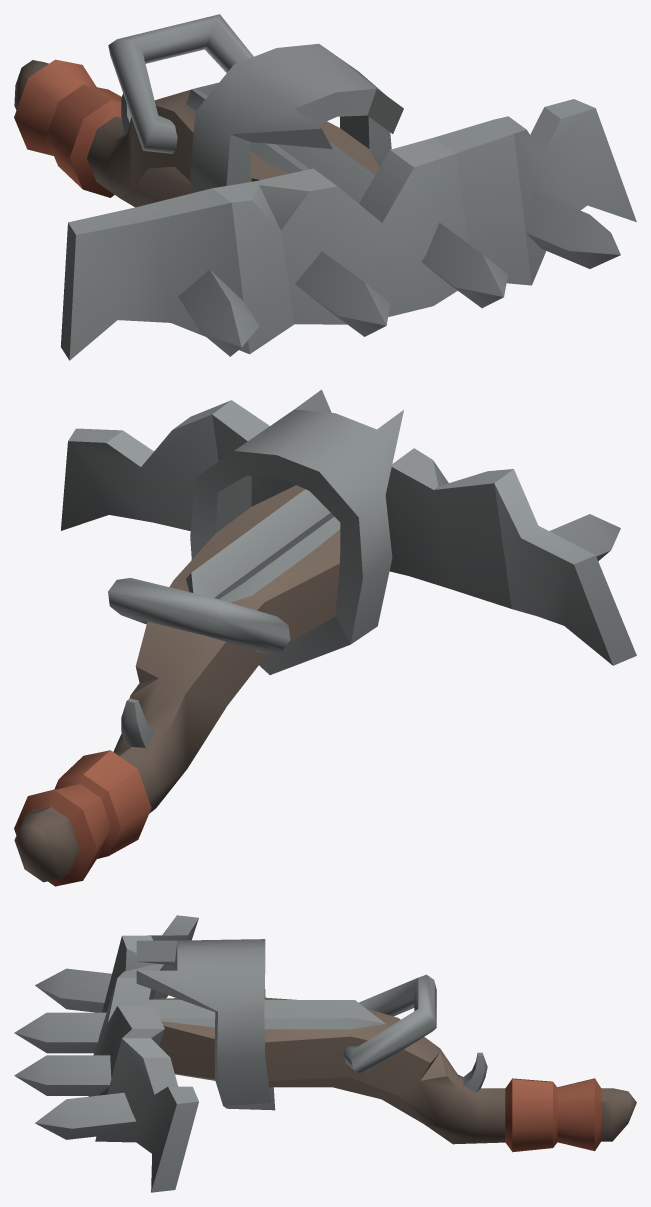
File: bone-crossbow.glb
The picture shows the model from 3 angles, top to bottom: view 1: azimuth 30°, elevation 25°; view 2: azimuth 150°, elevation 25°; view 3: azimuth 270°, elevation 25°; orthographic projection. The views are drawn at different scales.
Visible parts, largest first — view 1: Skeleton_Crossbow; view 2: Skeleton_Crossbow; view 3: Skeleton_Crossbow.
Part boxes in pixels (x1,y1,x2,y2): Skeleton_Crossbow: (14,14,636,360); Skeleton_Crossbow: (14,389,636,886); Skeleton_Crossbow: (14,915,636,1192).
Size of the model in its own units: 1.11 by 0.5082 by 1.42.
Materials: 1 (1 with a texture image).
